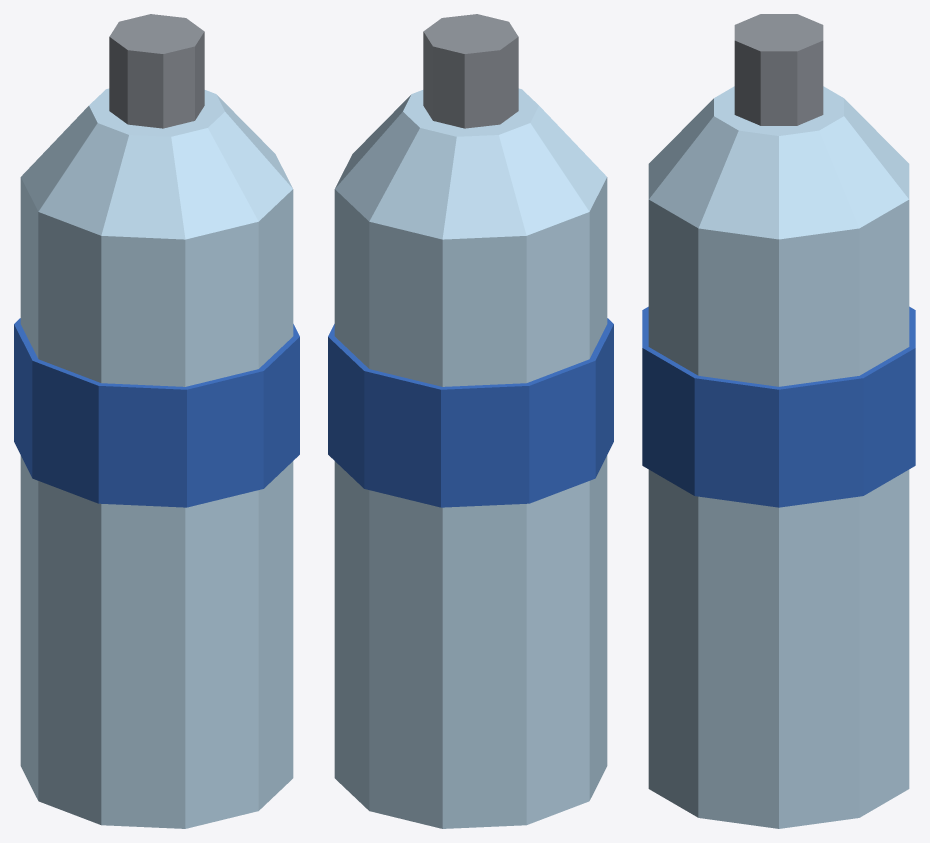
Rendered from liquid_oxygen.glb.
3 renders of one model, left to right at view 1: azimuth 30°, elevation 25°; view 2: azimuth 150°, elevation 25°; view 3: azimuth 270°, elevation 25°, orthographic.
Visible parts, largest first — view 1: liquid_oxygen; view 2: liquid_oxygen; view 3: liquid_oxygen.
Part boxes in pixels (x1,y1,x2,y2): liquid_oxygen: [14, 14, 299, 828]; liquid_oxygen: [328, 14, 613, 828]; liquid_oxygen: [642, 14, 915, 828].
Size of the model in its own units: 0.42 by 1.19 by 0.3994.
